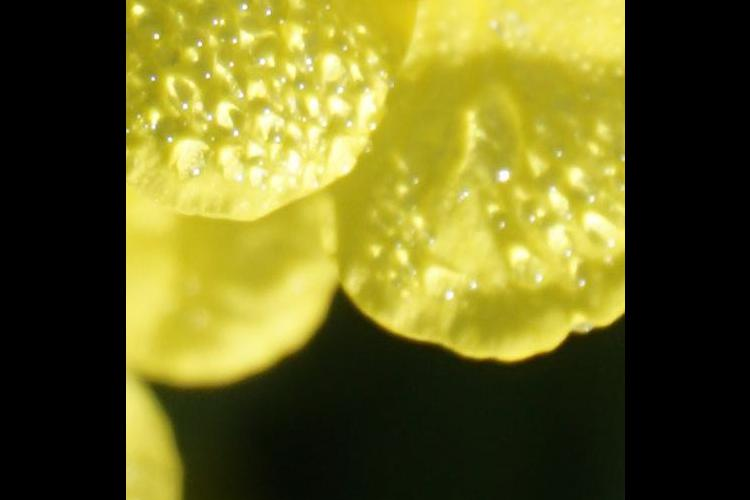yellow: (128, 1, 625, 404)
